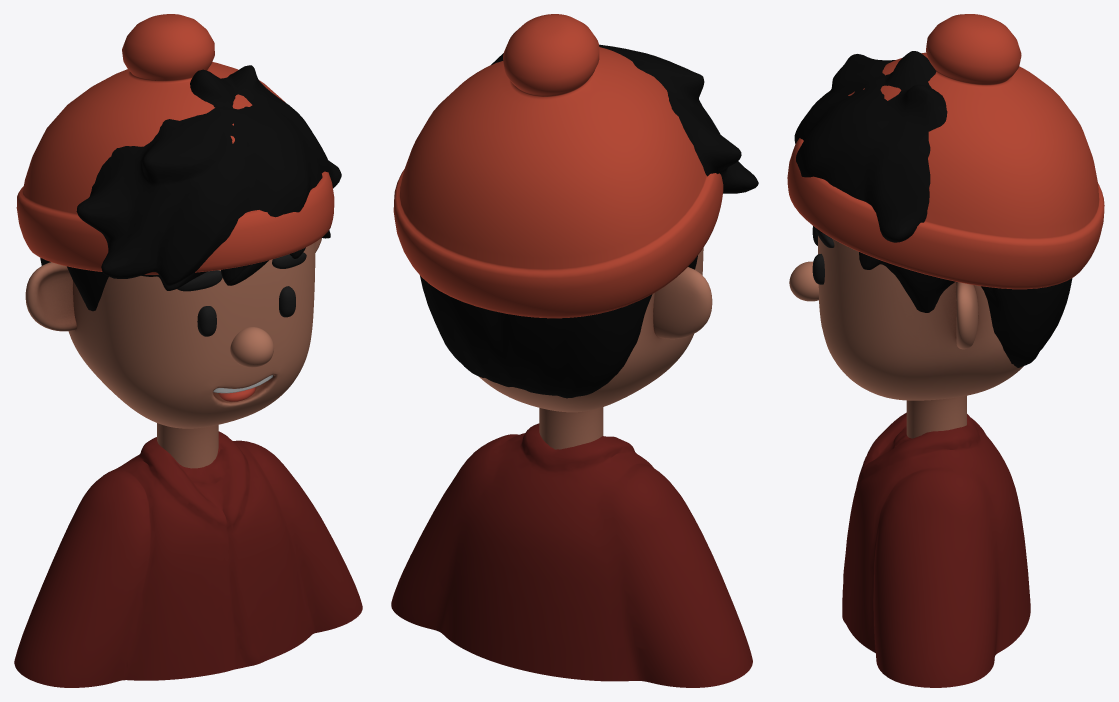
File: Avatar5.glb
The picture shows the model from 3 angles, left to right: view 1: azimuth 30°, elevation 25°; view 2: azimuth 150°, elevation 25°; view 3: azimuth 270°, elevation 25°; orthographic projection. The views are drawn at different scales.
Visible parts, largest first — view 1: cloth, hair, face, hat, ears, hair mask, nose, eye, eyebrows; view 2: hat, cloth, hair mask, face, hair, ears; view 3: hat, cloth, face, hair, hair mask, ears, nose.
Boxes of the visible parts, box(x1,y1,x2,y2) form: cloth: box(14, 431, 362, 687); hair: box(76, 65, 341, 286); face: box(68, 242, 315, 468); hat: box(16, 14, 334, 274); ears: box(25, 238, 321, 331); hair mask: box(40, 230, 330, 311); nose: box(230, 327, 273, 367); eye: box(197, 286, 295, 336); eyebrows: box(177, 252, 306, 291); hat: box(393, 14, 723, 318); cloth: box(391, 423, 752, 687); hair mask: box(420, 255, 697, 398); face: box(479, 248, 703, 449); hair: box(491, 44, 758, 193); ears: box(653, 267, 712, 339); hat: box(787, 14, 1104, 289); cloth: box(842, 412, 1030, 687); face: box(818, 236, 1023, 438); hair: box(794, 51, 947, 242); hair mask: box(815, 228, 1072, 367); ears: box(956, 282, 978, 349); nose: box(789, 261, 818, 301).
Bounding box in the file's own units: 3.13 × 5.43 × 2.65.
3 materials, 3 textured.
